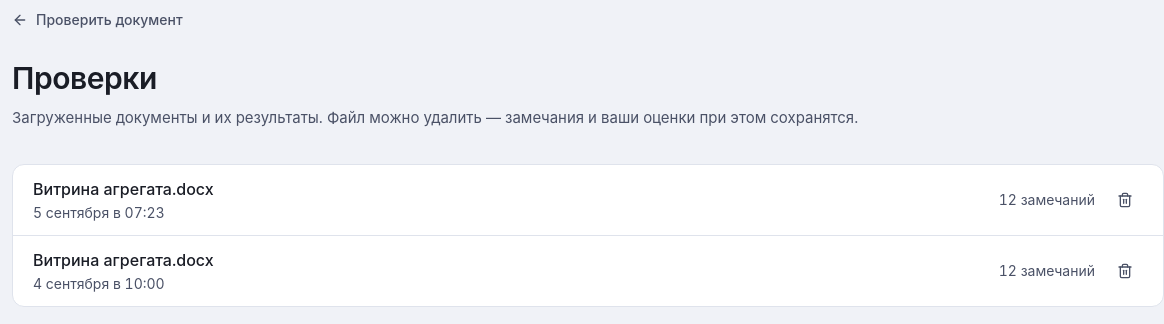
Scenario: подтверждение раскрывается только в своей строке, даже если документ один
The image size is (1164, 324).
Step 1. Click the button named "Удалить файл Витрина" in the row of "5 сентября в 07:23" → click(1125, 200), box x1=1107 y1=182 x2=1143 y2=218
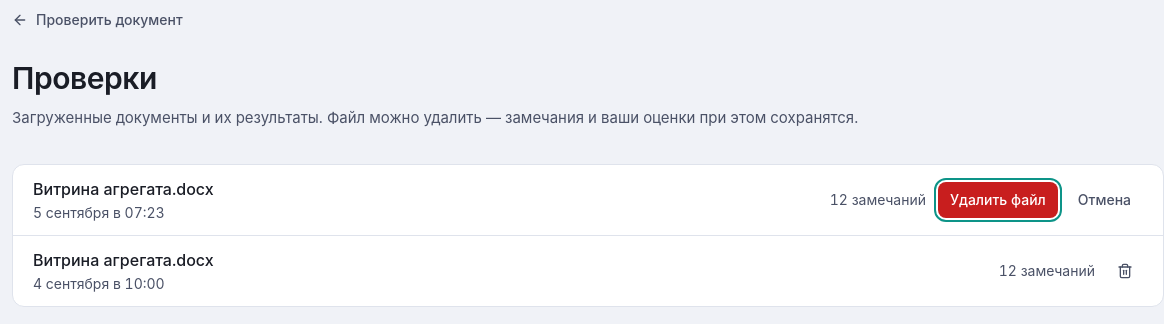
Expected: the number of buttons named "Удалить файл Витрина" is 1, x1=1107 y1=253 x2=1143 y2=289
Now the number of buttons "Удалить файл" is 1, box x1=938 y1=182 x2=1058 y2=218
